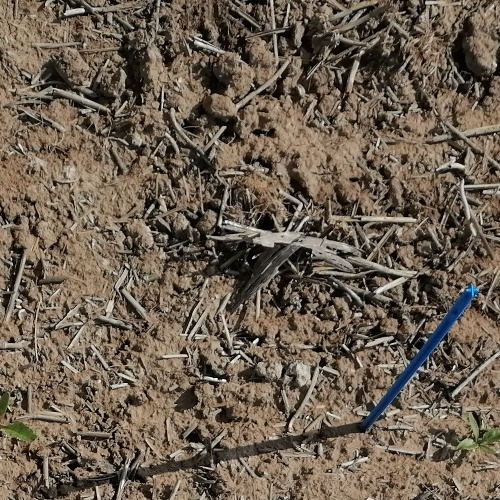beet: (454, 413, 500, 455), (0, 393, 38, 442)
